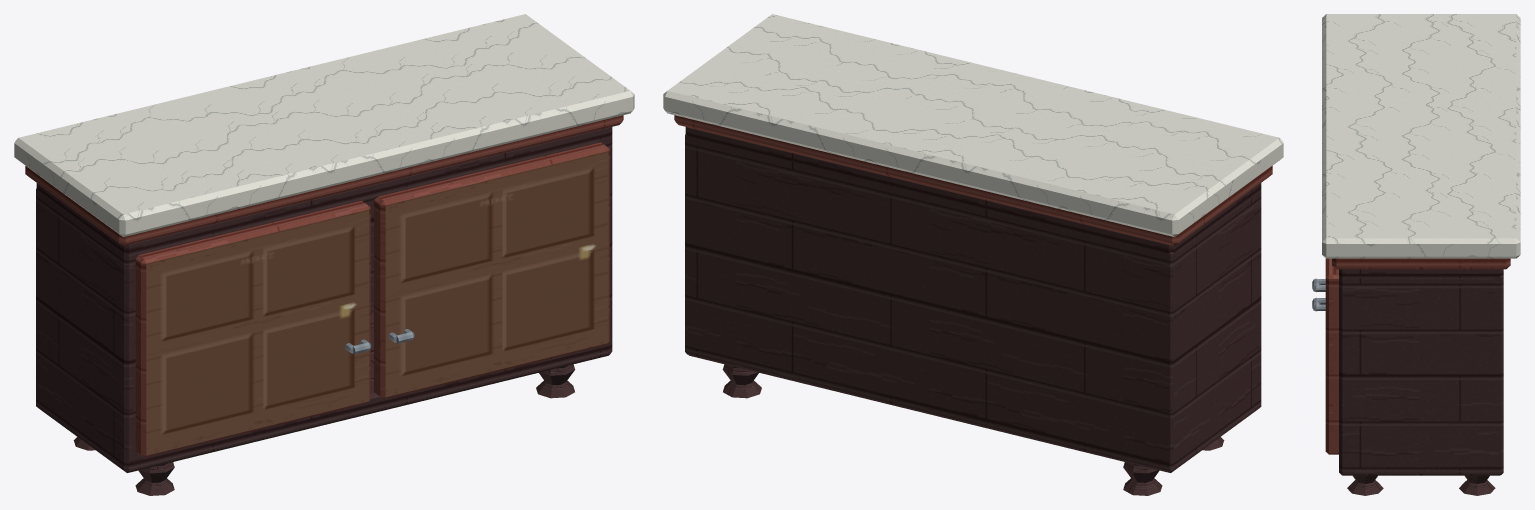
Rendered from MD_44_KitchenCabinet.fbx.
3 views of the same model, side by side, from view 1: azimuth 30°, elevation 25°; view 2: azimuth 150°, elevation 25°; view 3: azimuth 270°, elevation 25° (orthographic). The views are drawn at different scales.
Visible parts, largest first — view 1: MD_44_KitchenCabinet_marble_worktop, MD_44_KitchenCabinet_hinged_door.001, MD_44_KitchenCabinet_hinged_door, MD_44_KitchenCabinet_cabinet_side, MD_44_KitchenCabinet_cabinet_shelf.001, MD_44_KitchenCabinet_cabinet_shelf, MD_44_KitchenCabinet_cabinet_crown, MD_44_KitchenCabinet_turned_leg, MD_44_KitchenCabinet_turned_leg.002, MD_44_KitchenCabinet_cabinet_back, MD_44_KitchenCabinet_cabinet_side.001; view 2: MD_44_KitchenCabinet_cabinet_back, MD_44_KitchenCabinet_marble_worktop, MD_44_KitchenCabinet_cabinet_side, MD_44_KitchenCabinet_cabinet_shelf.001, MD_44_KitchenCabinet_cabinet_crown, MD_44_KitchenCabinet_cabinet_shelf, MD_44_KitchenCabinet_turned_leg.001, MD_44_KitchenCabinet_turned_leg.003; view 3: MD_44_KitchenCabinet_marble_worktop, MD_44_KitchenCabinet_cabinet_side.001, MD_44_KitchenCabinet_hinged_door.001, MD_44_KitchenCabinet_cabinet_crown, MD_44_KitchenCabinet_cabinet_back, MD_44_KitchenCabinet_cabinet_shelf.001, MD_44_KitchenCabinet_cabinet_shelf, MD_44_KitchenCabinet_turned_leg.002, MD_44_KitchenCabinet_turned_leg.003.
Part boxes in pixels (x1,y1,x2,y2): MD_44_KitchenCabinet_marble_worktop: [14, 14, 634, 236]; MD_44_KitchenCabinet_hinged_door.001: [374, 142, 609, 399]; MD_44_KitchenCabinet_hinged_door: [135, 200, 370, 457]; MD_44_KitchenCabinet_cabinet_side: [36, 191, 141, 469]; MD_44_KitchenCabinet_cabinet_shelf.001: [36, 127, 612, 257]; MD_44_KitchenCabinet_cabinet_shelf: [36, 312, 612, 472]; MD_44_KitchenCabinet_cabinet_crown: [25, 115, 623, 245]; MD_44_KitchenCabinet_turned_leg: [135, 462, 174, 495]; MD_44_KitchenCabinet_turned_leg.002: [536, 364, 575, 398]; MD_44_KitchenCabinet_cabinet_back: [36, 188, 373, 406]; MD_44_KitchenCabinet_cabinet_side.001: [598, 136, 612, 340]; MD_44_KitchenCabinet_cabinet_back: [685, 134, 1177, 472]; MD_44_KitchenCabinet_marble_worktop: [663, 14, 1283, 236]; MD_44_KitchenCabinet_cabinet_side: [1156, 191, 1261, 468]; MD_44_KitchenCabinet_cabinet_shelf.001: [685, 127, 1261, 257]; MD_44_KitchenCabinet_cabinet_crown: [674, 115, 1272, 245]; MD_44_KitchenCabinet_cabinet_shelf: [687, 353, 1261, 472]; MD_44_KitchenCabinet_turned_leg.001: [1123, 462, 1162, 495]; MD_44_KitchenCabinet_turned_leg.003: [722, 364, 761, 398]; MD_44_KitchenCabinet_marble_worktop: [1322, 14, 1520, 258]; MD_44_KitchenCabinet_cabinet_side.001: [1339, 277, 1500, 472]; MD_44_KitchenCabinet_hinged_door.001: [1325, 258, 1338, 454]; MD_44_KitchenCabinet_cabinet_crown: [1332, 258, 1510, 269]; MD_44_KitchenCabinet_cabinet_back: [1494, 275, 1503, 474]; MD_44_KitchenCabinet_cabinet_shelf.001: [1339, 269, 1503, 280]; MD_44_KitchenCabinet_cabinet_shelf: [1339, 462, 1500, 475]; MD_44_KitchenCabinet_turned_leg.002: [1347, 475, 1383, 495]; MD_44_KitchenCabinet_turned_leg.003: [1459, 475, 1495, 495].
Bounding box in the file's own units: 1.9 × 1.07 × 0.734.
Materials: 5 (5 with a texture image).
